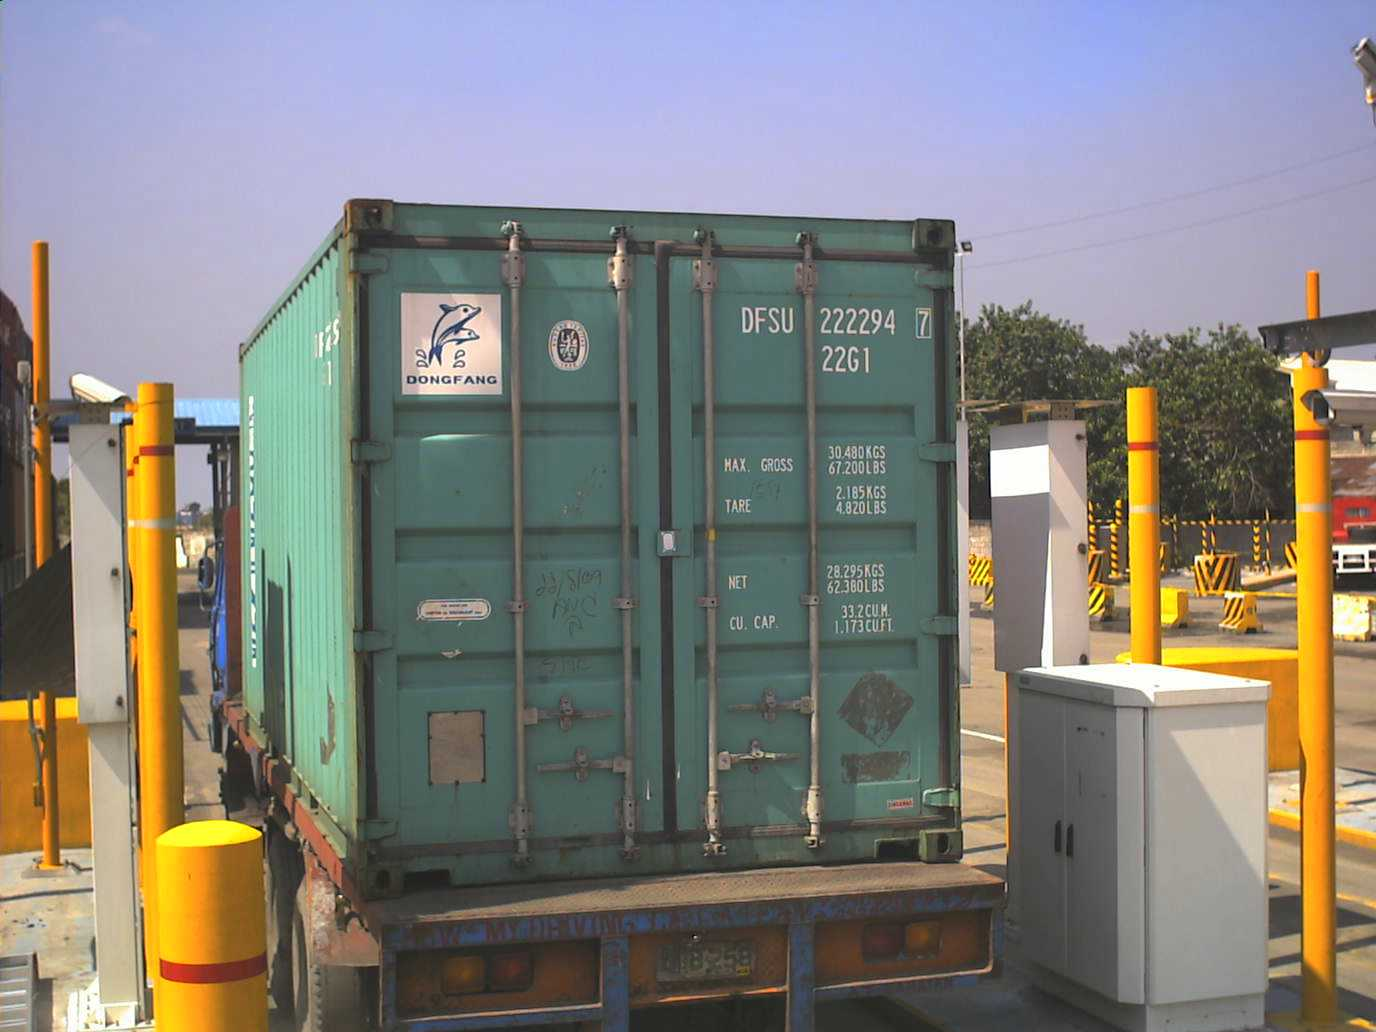container_door: (336, 172, 964, 869)
